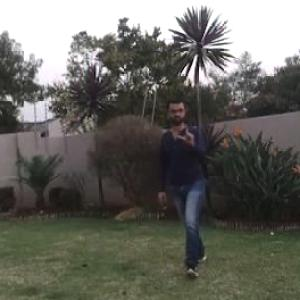land_hand: (177, 120, 207, 152)
